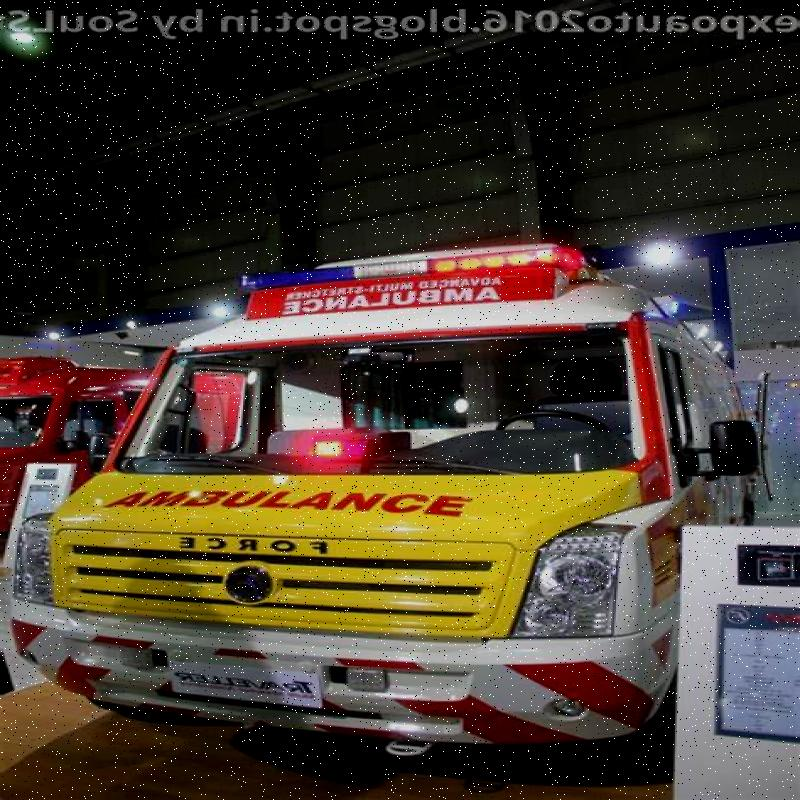AmbulanceSiren: (205, 181, 617, 336)
